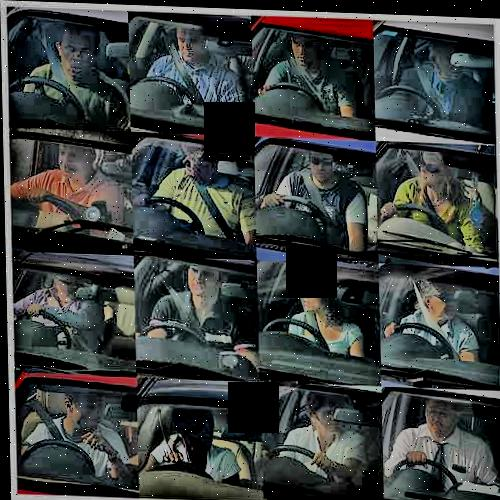seatbelt: (133, 252, 230, 369), (394, 136, 461, 252), (163, 153, 245, 246), (25, 274, 96, 370), (28, 20, 90, 125), (399, 268, 461, 364), (280, 259, 334, 366), (21, 389, 87, 474), (154, 28, 216, 116), (288, 154, 349, 241), (400, 44, 461, 124), (272, 43, 334, 111), (143, 405, 187, 466)
